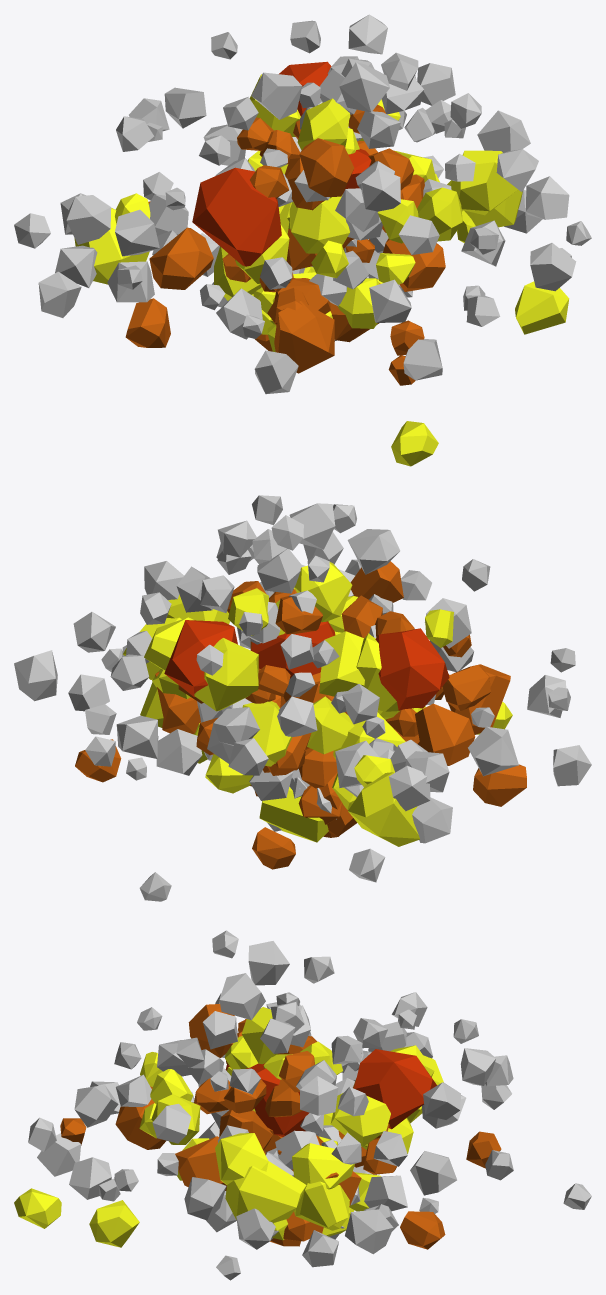
Rendered from Explosion0038.obj.
3 views of the same model, one above another, from view 1: azimuth 30°, elevation 25°; view 2: azimuth 150°, elevation 25°; view 3: azimuth 270°, elevation 25° (orthographic). The views are drawn at different scales.
Visible parts, largest first — view 1: Cube_Material, Cube.002_Material.003, Cube.001_Material.002, Cube.003_Material.004; view 2: Cube_Material, Cube.002_Material.003, Cube.001_Material.002, Cube.003_Material.004; view 3: Cube_Material, Cube.002_Material.003, Cube.001_Material.002, Cube.003_Material.004.
Part boxes in pixels (x1,y1,x2,y2): Cube_Material: (14, 14, 591, 394); Cube.002_Material.003: (74, 74, 569, 466); Cube.001_Material.002: (125, 104, 445, 385); Cube.003_Material.004: (192, 61, 371, 266); Cube_Material: (14, 495, 591, 901); Cube.002_Material.003: (123, 562, 512, 846); Cube.001_Material.002: (75, 561, 526, 869); Cube.003_Material.004: (164, 620, 449, 710); Cube_Material: (28, 930, 591, 1280); Cube.002_Material.003: (14, 1007, 443, 1247); Cube.001_Material.002: (60, 1004, 501, 1249); Cube.003_Material.004: (225, 1019, 436, 1136).
Size of the model in its own units: 17.12 by 9.88 by 17.65.
